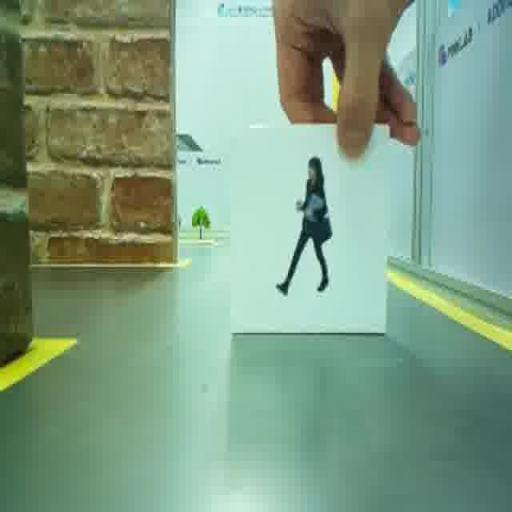human: (276, 157, 328, 294)
